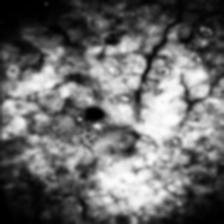Potentially Malignant Skin Tumors: (82, 106, 104, 122)
